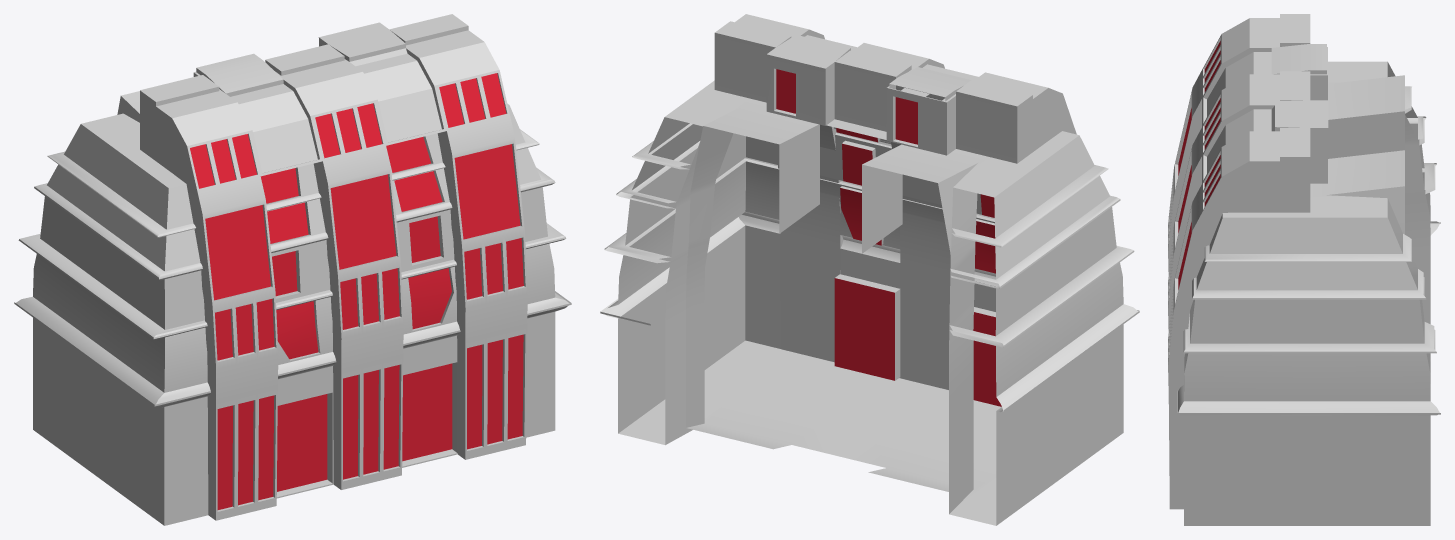
File: TimmeGebouw2.fbx
3 views of the same model, side by side, from view 1: azimuth 30°, elevation 25°; view 2: azimuth 150°, elevation 25°; view 3: azimuth 270°, elevation 25° (orthographic). The views are drawn at different scales.
Parts seen in each view (by area): view 1: Cube.005; view 2: Cube.005; view 3: Cube.005.
Boxes of the visible parts, left/top/right/bottom form: Cube.005: left=14, top=14, right=571, bottom=525; Cube.005: left=600, top=14, right=1139, bottom=525; Cube.005: left=1168, top=14, right=1440, bottom=525.
Size of the model in its own units: 66.13 by 56.98 by 39.97.
